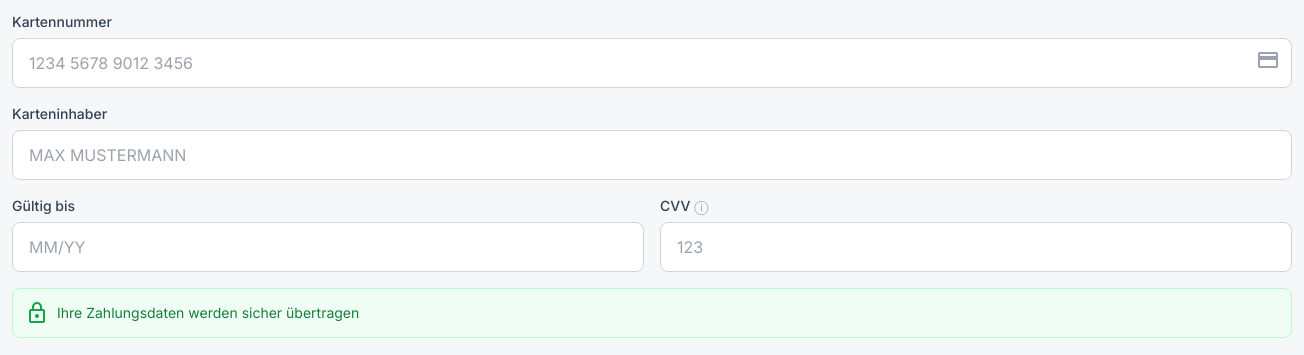
Test: CreditCardForm › formats card number with spaces
Type "4111111111111111" into the field with placeholder "1234 5678 9012 3456" at {"x": 652, "y": 63}, box [12,38,1292,88]
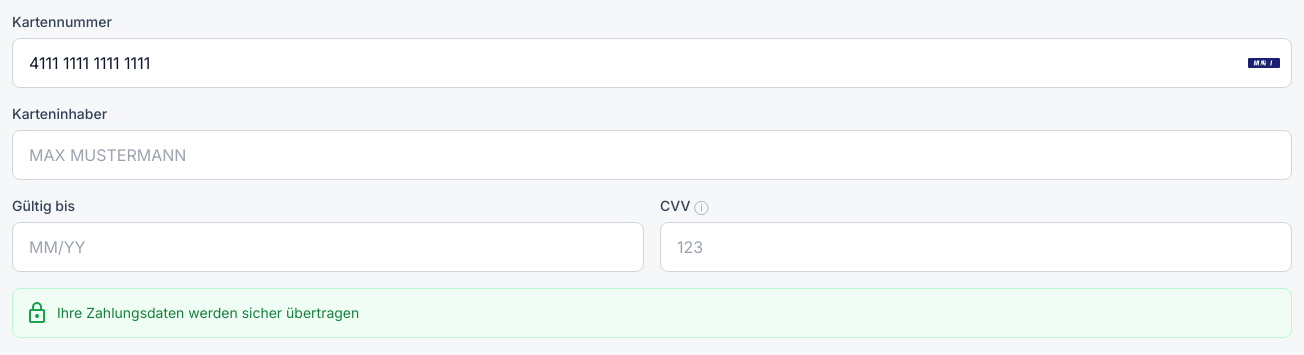
Expected: the field with placeholder "1234 5678 9012 3456" holds "4111 1111 1111 1111", [12,38,1292,88]
